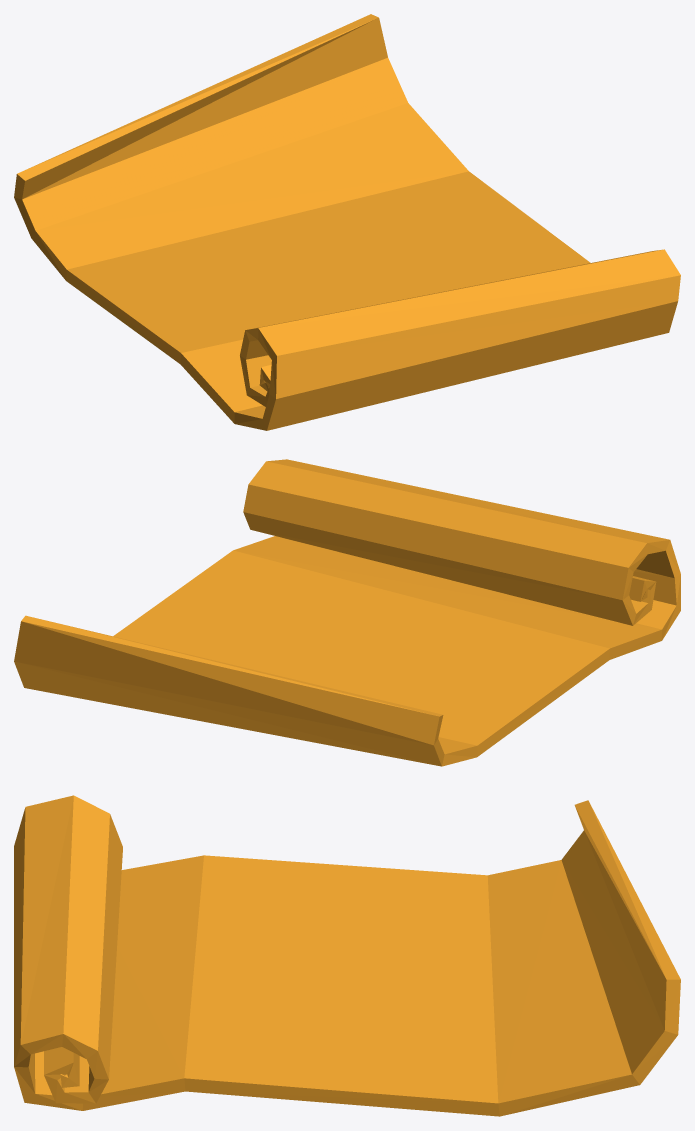
File: SM_Scroll_Empty.fbx
3 views of the same model, one above another, from view 1: azimuth 30°, elevation 25°; view 2: azimuth 150°, elevation 25°; view 3: azimuth 270°, elevation 25° (orthographic). The views are drawn at different scales.
Parts seen in each view (by area): view 1: scroll-empty; view 2: scroll-empty; view 3: scroll-empty.
Boxes of the visible parts, left/top/right/bottom form: scroll-empty: left=14, top=14, right=680, bottom=430; scroll-empty: left=14, top=459, right=680, bottom=766; scroll-empty: left=14, top=795, right=680, bottom=1116.
Size of the model in its own units: 0.2688 by 0.0709 by 0.3237.
